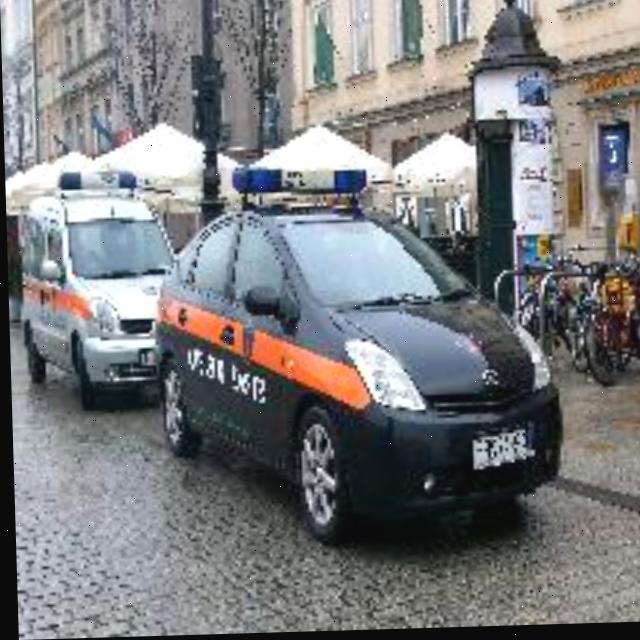emergency: (171, 162, 563, 523), (4, 165, 160, 375)
